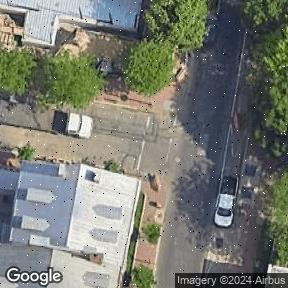vegetation: (244, 0, 288, 156), (44, 54, 105, 107), (0, 50, 36, 95), (127, 264, 153, 288), (143, 224, 160, 243), (18, 144, 35, 160), (103, 160, 121, 172)
